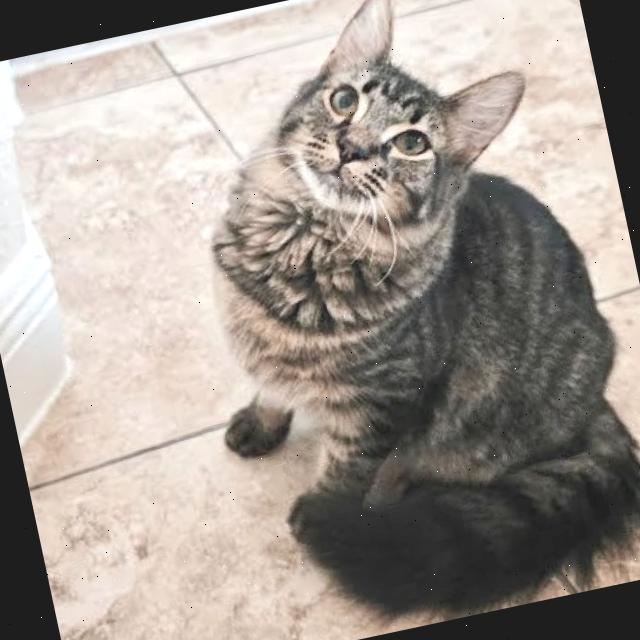maine_coon_cat: (197, 0, 566, 303)
